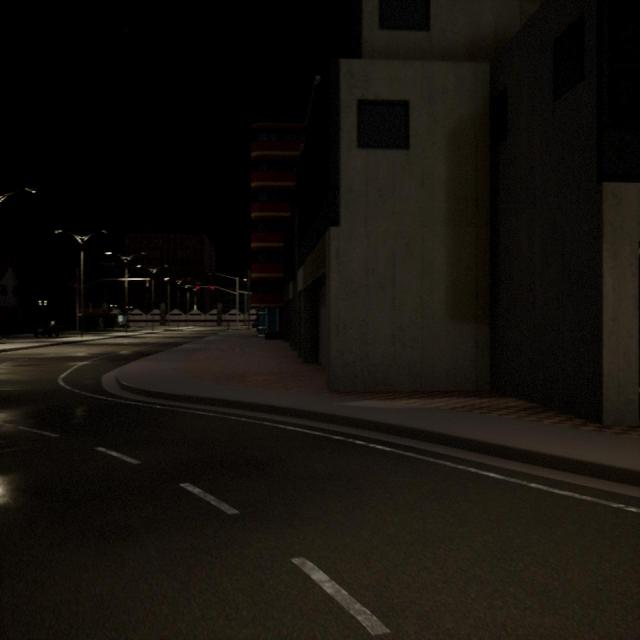Vehicle: (34, 322, 58, 337)
traffic_light: (196, 286, 200, 289), (211, 286, 214, 290)
